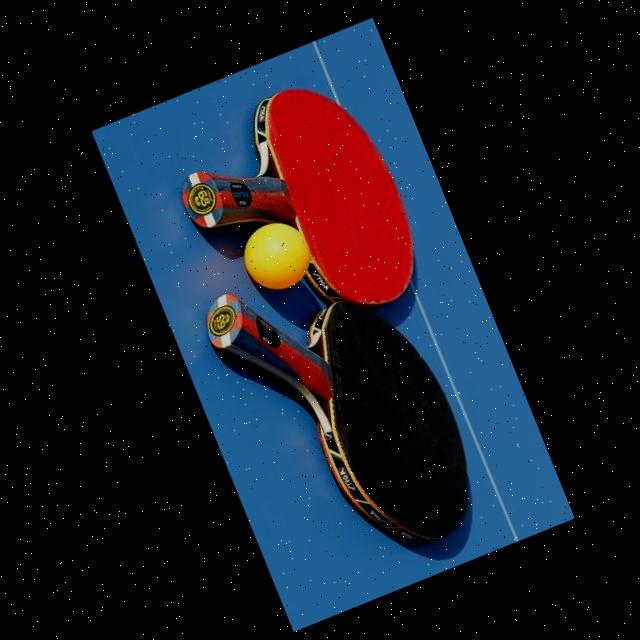ping-pong-ball: (232, 214, 320, 302)
